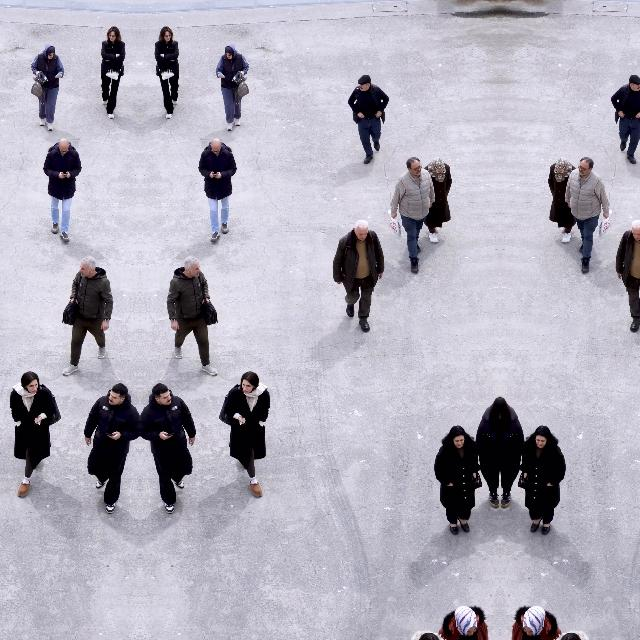person: (140, 382, 196, 514), (84, 382, 140, 514), (219, 372, 271, 498), (9, 372, 61, 498), (166, 256, 218, 376), (62, 256, 114, 376), (332, 220, 384, 332), (389, 156, 435, 274), (565, 156, 611, 274), (434, 425, 482, 535), (518, 425, 566, 535), (198, 138, 238, 244), (42, 138, 82, 244), (348, 75, 390, 165), (215, 45, 249, 132), (31, 45, 65, 132), (474, 396, 500, 508), (500, 396, 526, 508), (616, 219, 640, 332), (610, 75, 640, 165), (422, 157, 452, 243), (548, 157, 578, 243), (154, 26, 180, 119), (100, 26, 126, 119), (438, 606, 489, 640), (511, 606, 562, 640), (558, 630, 590, 640), (411, 630, 442, 640)
